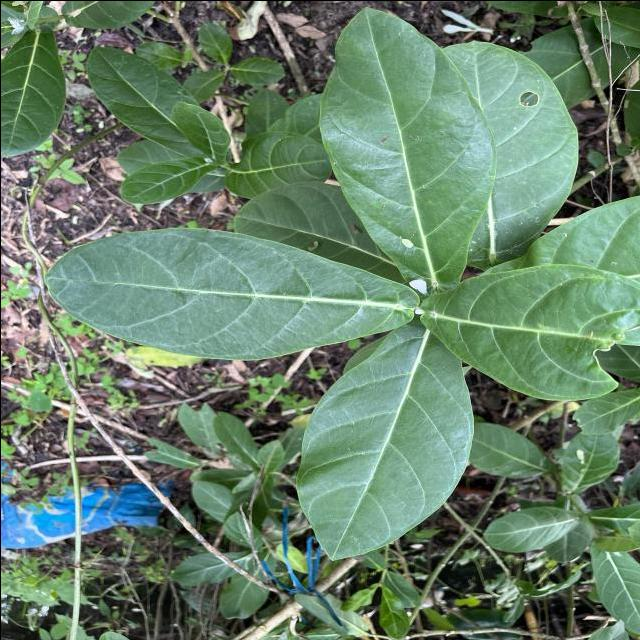Calotropis gigantea: (315, 4, 499, 292), (43, 224, 420, 360), (292, 323, 476, 561), (84, 44, 206, 160), (0, 22, 67, 159), (118, 153, 218, 204), (587, 540, 640, 635), (479, 504, 582, 552)
